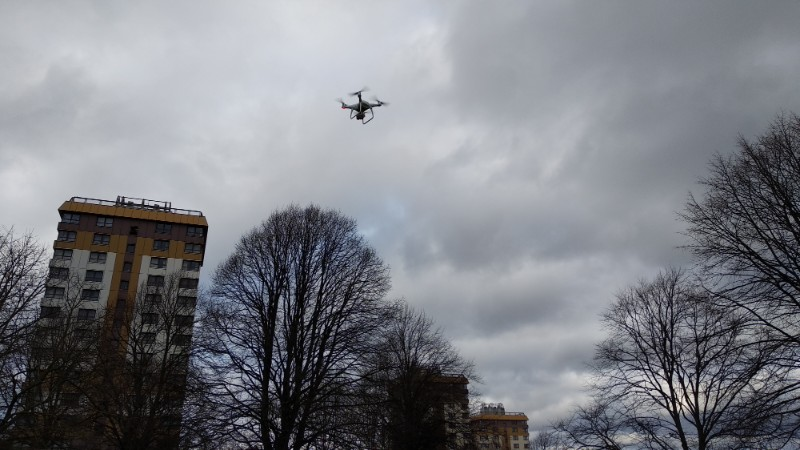drone: (337, 87, 390, 125)
